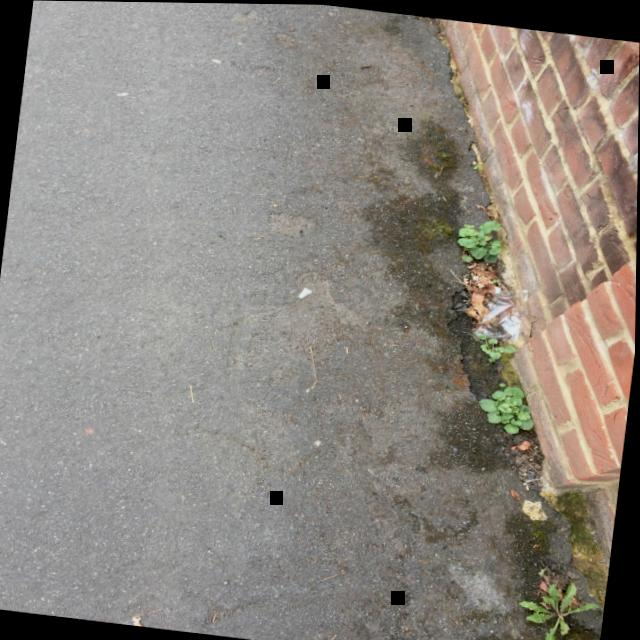Cigarette: (133, 620, 143, 626)
Plastic film: (474, 286, 528, 340)
Unlabeled litter: (297, 285, 312, 296)
